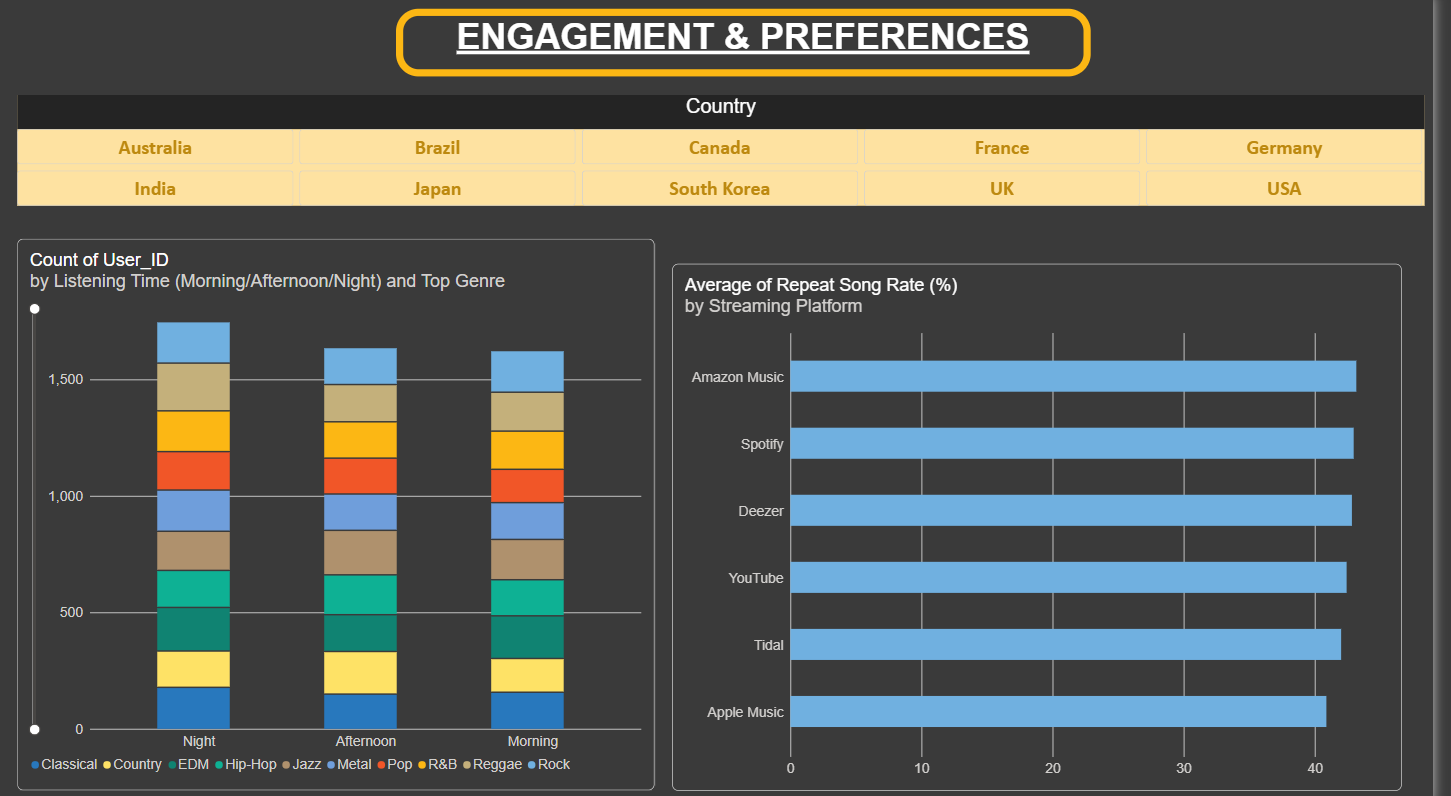

The dashboard page shown, as its layout file describes it:
{"tool":"powerbi","page":{"name":"ENGAGEMENT & PREFERENCES","canvas":[1920,1080],"ordinal":3},"visuals":[{"type":"textbox","box":[533.7,19.2,927.9,90.7],"z":0},{"type":"advancedSlicerVisual","fields":{"Values":["Global_Music_Streaming_Listener_Preferences.Country"]},"box":[27.9,134.3,1880.2,148.3],"z":1000},{"type":"columnChart","fields":{"Category":["Global_Music_Streaming_Listener_Preferences.Listening Time (Morning/Afternoon/Night)"],"Y":["CountNonNull(Global_Music_Streaming_Listener_Preferences.User_ID)"],"Series":["Global_Music_Streaming_Listener_Preferences.Top Genre"]},"box":[28.1,326.2,851,736.6],"z":2000},{"type":"clusteredBarChart","fields":{"Category":["Global_Music_Streaming_Listener_Preferences.Streaming Platform"],"Y":["Avg(Global_Music_Streaming_Listener_Preferences.Repeat Song Rate (%))"]},"box":[902.9,358.6,974.2,704.2],"z":4000}]}

Visuals, with their boxes in screenshot pixels (x1, y1, x2, y2), scaled from the page's 1920x1080 canvas onto the 1451x796 screenshot:
textbox: bbox=[403, 14, 1105, 81]
advancedSlicerVisual - Global_Music_Streaming_Listener_Preferences.Country: bbox=[21, 99, 1442, 208]
columnChart - Global_Music_Streaming_Listener_Preferences.Listening Time (Morning/Afternoon/Night) x CountNonNull(Global_Music_Streaming_Listener_Preferences.User_ID): bbox=[21, 240, 664, 783]
clusteredBarChart - Global_Music_Streaming_Listener_Preferences.Streaming Platform x Avg(Global_Music_Streaming_Listener_Preferences.Repeat Song Rate (%)): bbox=[682, 264, 1419, 783]
